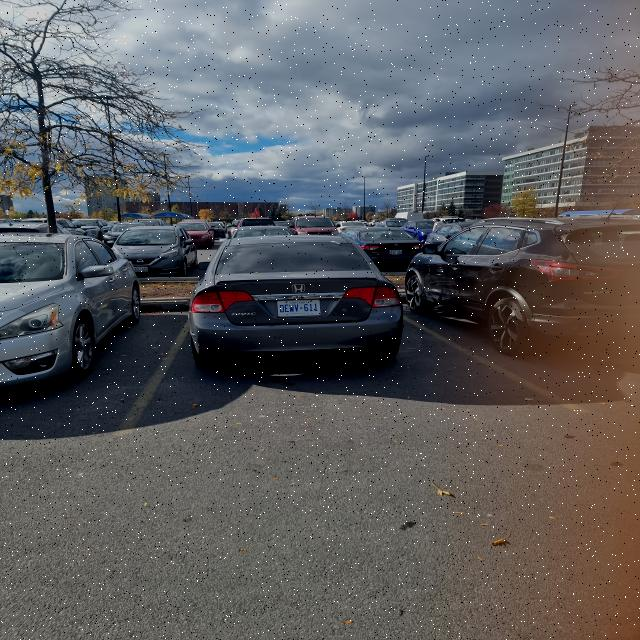plaque: (278, 300, 320, 317), (133, 266, 148, 272), (389, 250, 402, 255)
